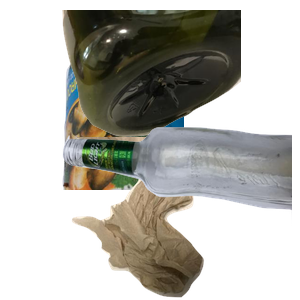glass: (60, 124, 300, 300)
metal: (60, 28, 300, 208)
plastic: (60, 10, 300, 139)
trash: (66, 137, 263, 300)
